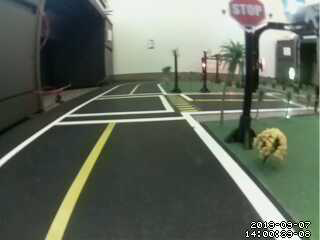Stop_Sign: (229, 1, 274, 35)
